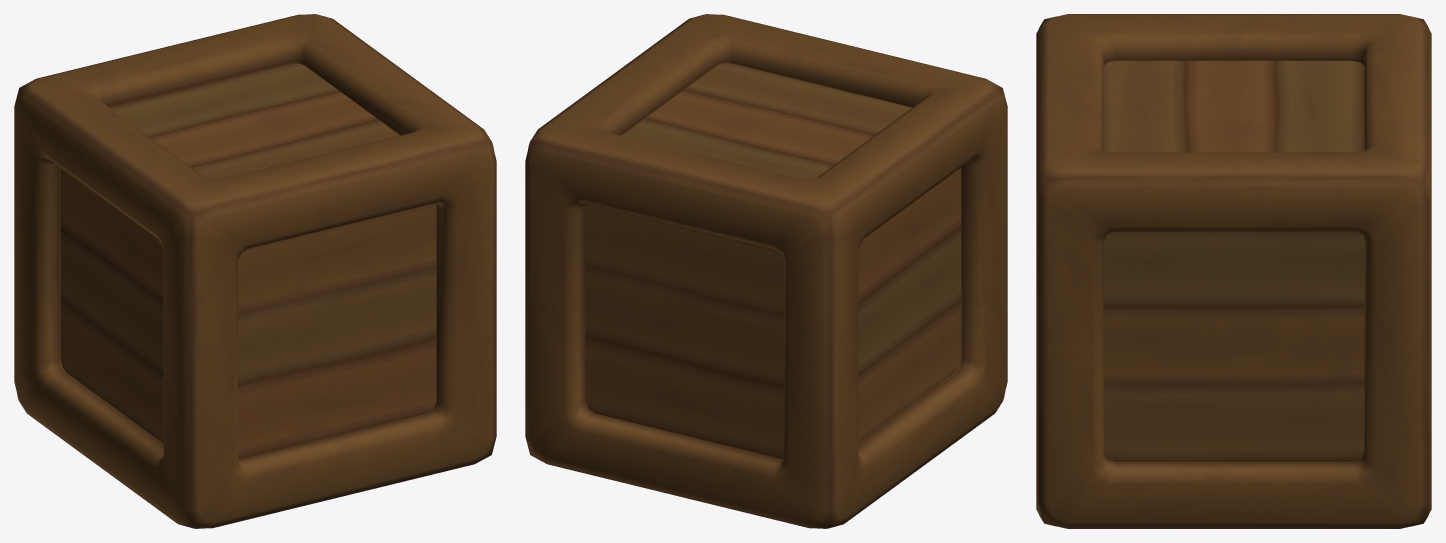
File: MDL_crate_01.fbx
The picture shows the model from 3 angles, left to right: view 1: azimuth 30°, elevation 25°; view 2: azimuth 150°, elevation 25°; view 3: azimuth 270°, elevation 25°; orthographic projection. The views are drawn at different scales.
Visible parts, largest first — view 1: MDL_crate_01; view 2: MDL_crate_01; view 3: MDL_crate_01.
Boxes of the visible parts, x1,y1,x2,y2 form: MDL_crate_01: (14,14,496,528); MDL_crate_01: (525,14,1007,528); MDL_crate_01: (1036,14,1431,528).
Size of the model in its own units: 60 by 60 by 60.
